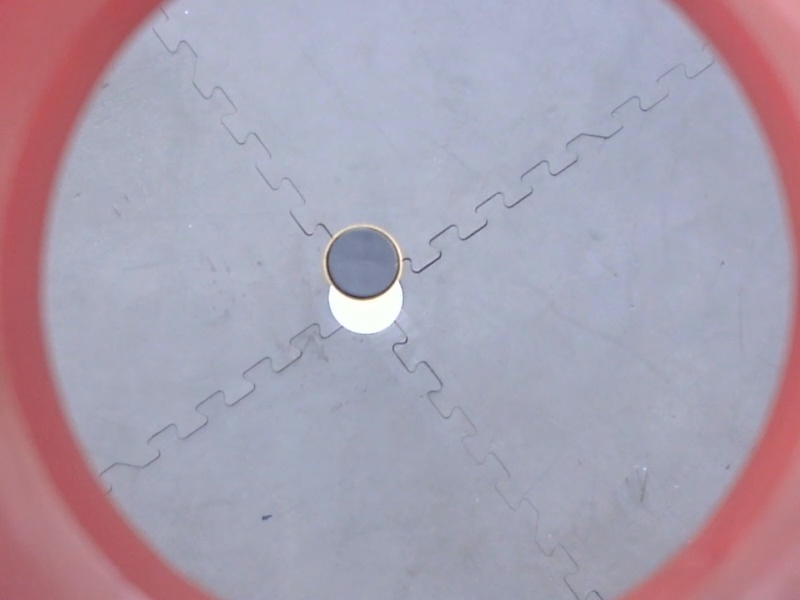tip: (320, 222, 407, 305)
